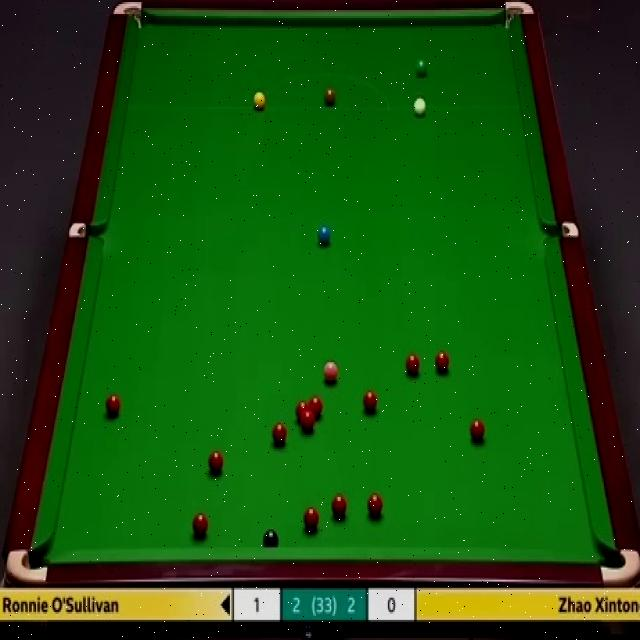black-ball: (262, 530, 279, 546)
blue-ball: (317, 224, 330, 246)
brown-ball: (323, 87, 337, 107)
green-ball: (416, 56, 427, 76)
pink-ball: (322, 360, 339, 382)
red-ball: (270, 420, 288, 447), (191, 511, 209, 537), (207, 449, 225, 474), (302, 505, 319, 531), (331, 494, 348, 520), (300, 409, 316, 436), (306, 395, 324, 418), (434, 348, 449, 375), (469, 417, 484, 444), (367, 494, 384, 516), (104, 394, 121, 416), (363, 389, 378, 412), (296, 400, 310, 424), (406, 354, 420, 375)
white-ball: (413, 96, 426, 116)
yellow-ball: (251, 91, 266, 111)
